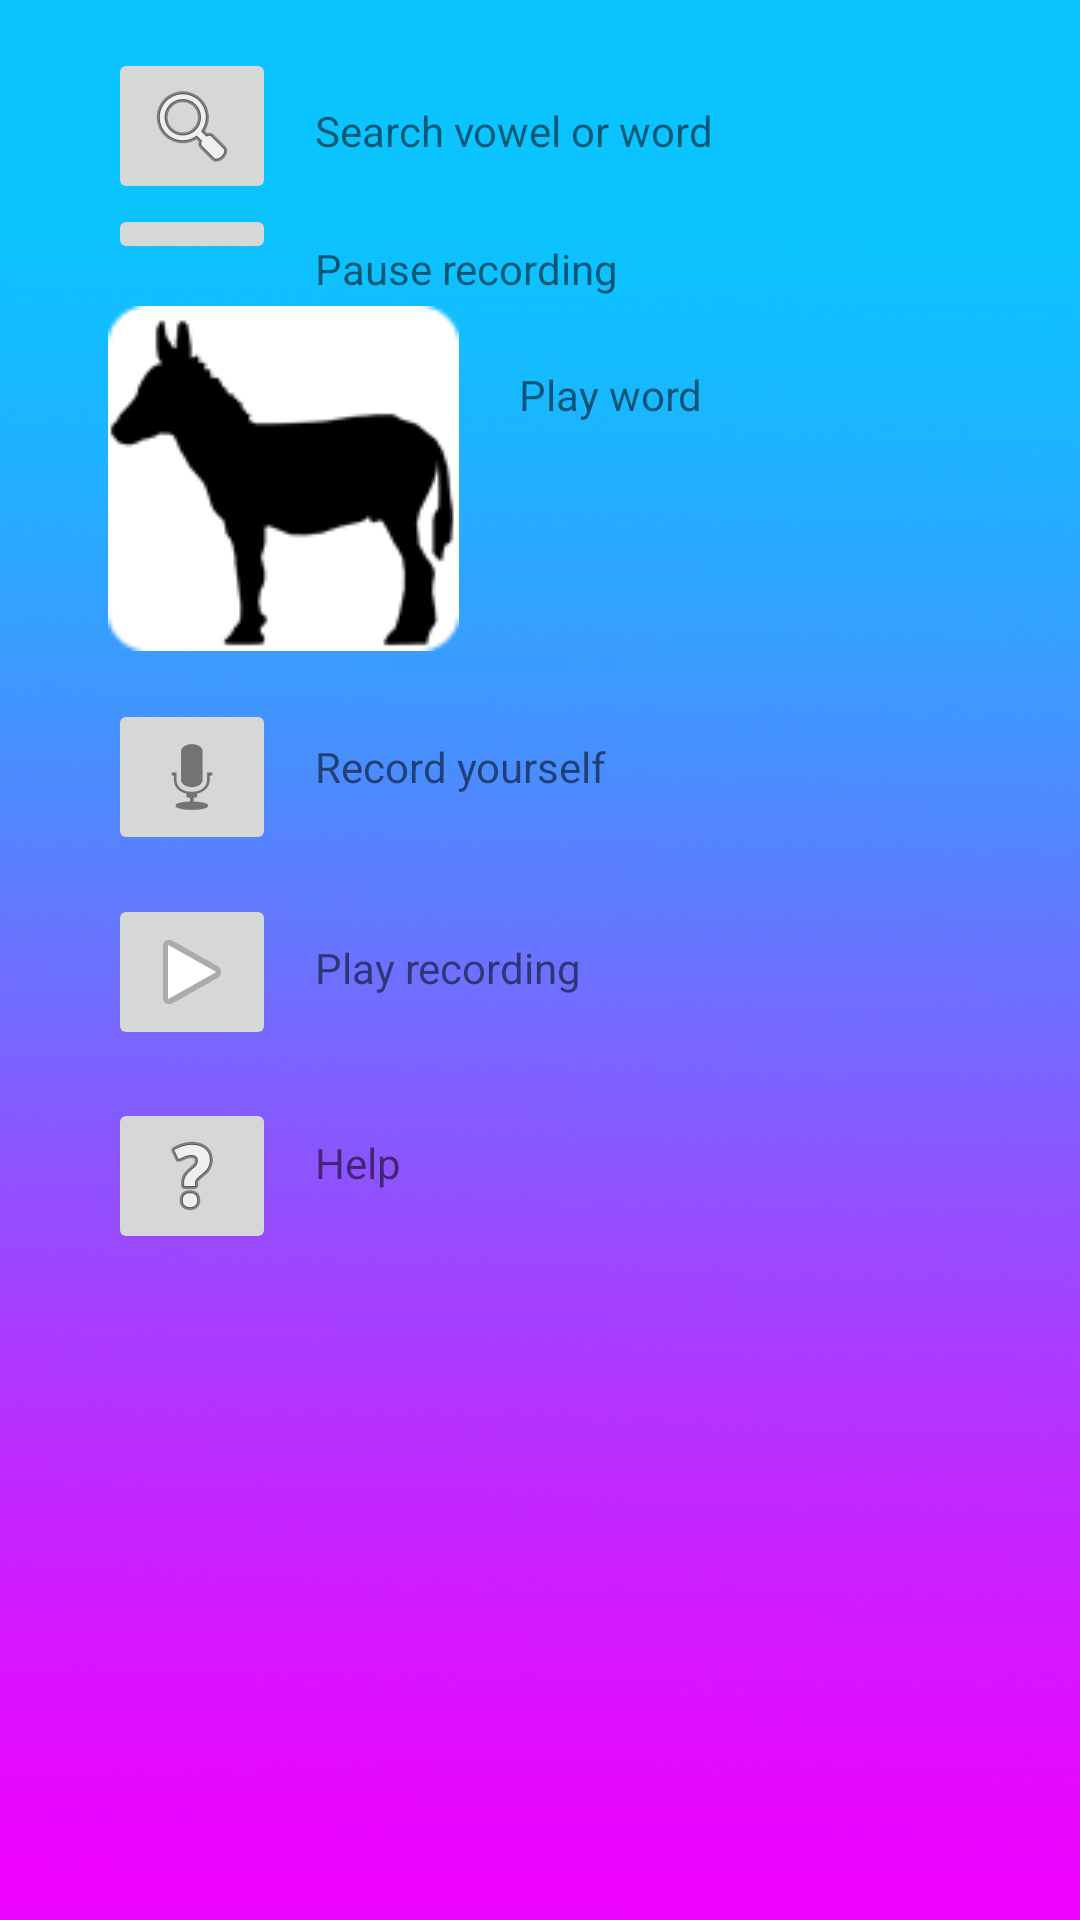

Where to tap for icons on this 1080px x 1920px app screen, as (x=x, y=y):
asna: (x=283, y=478)
speak now: (x=192, y=777)
